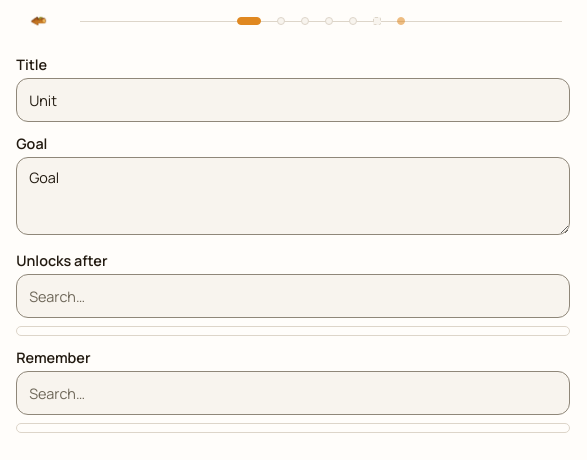
Test: the coverage grid › drops the preview wording once the Book has opted in
This screenshot has width=587, height=460.
Click the button named "Page 6 of 6": (377, 21) top-left (373, 17), bottom-right (381, 25)
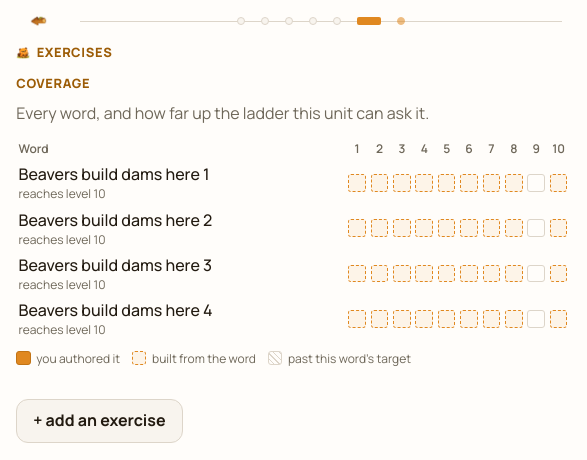
Result: the text "reaches level 10" is shown 4 times at top-left (19, 185), bottom-right (106, 202); top-left (19, 231), bottom-right (106, 248); top-left (19, 276), bottom-right (106, 293); top-left (19, 321), bottom-right (106, 338)
